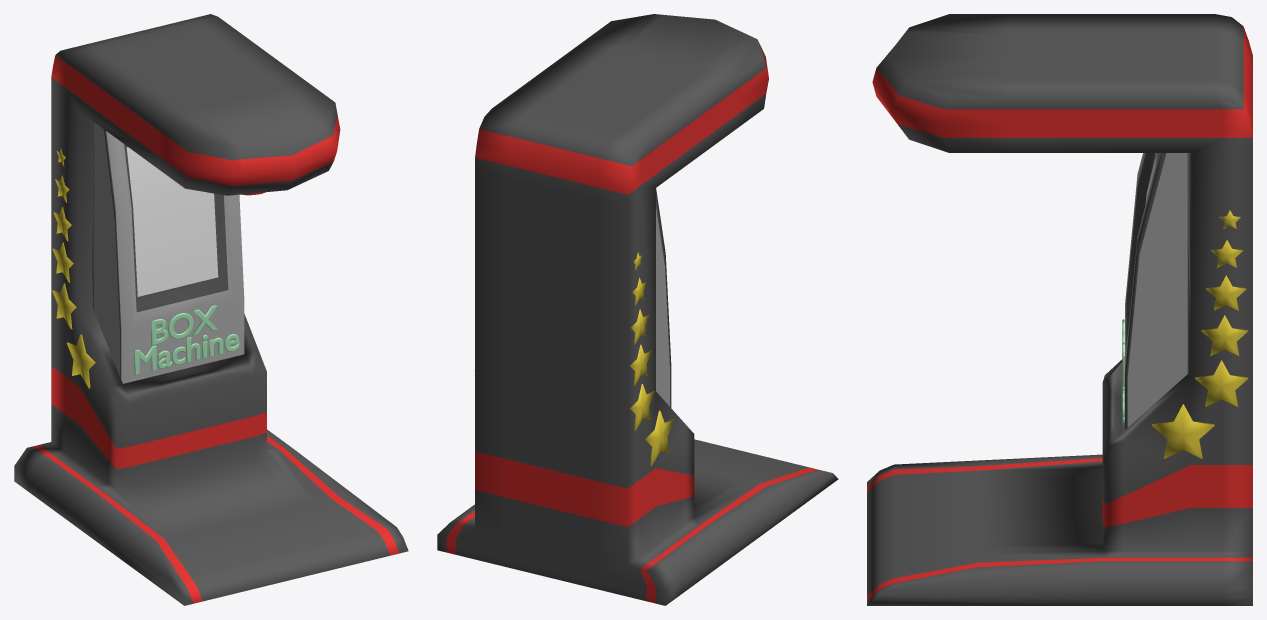
Rendered from makine.fbx.
3 views of the same model, side by side, from view 1: azimuth 30°, elevation 25°; view 2: azimuth 150°, elevation 25°; view 3: azimuth 270°, elevation 25° (orthographic). The views are drawn at different scales.
Parts seen in each view (by area): view 1: pCube1; view 2: pCube1; view 3: pCube1.
Boxes of the visible parts, left/top/right/bottom form: pCube1: left=14, top=14, right=408, bottom=605; pCube1: left=437, top=14, right=838, bottom=605; pCube1: left=867, top=14, right=1252, bottom=605.
Size of the model in its own units: 471 by 864 by 618.
